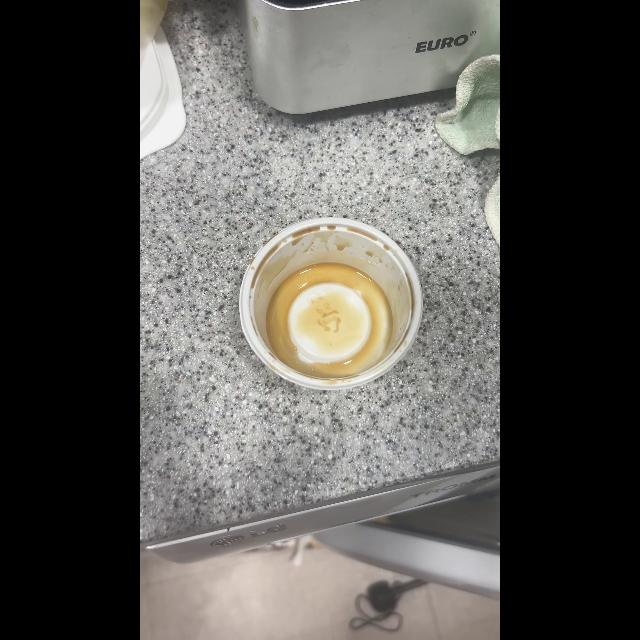dirty: (238, 218, 422, 388)
